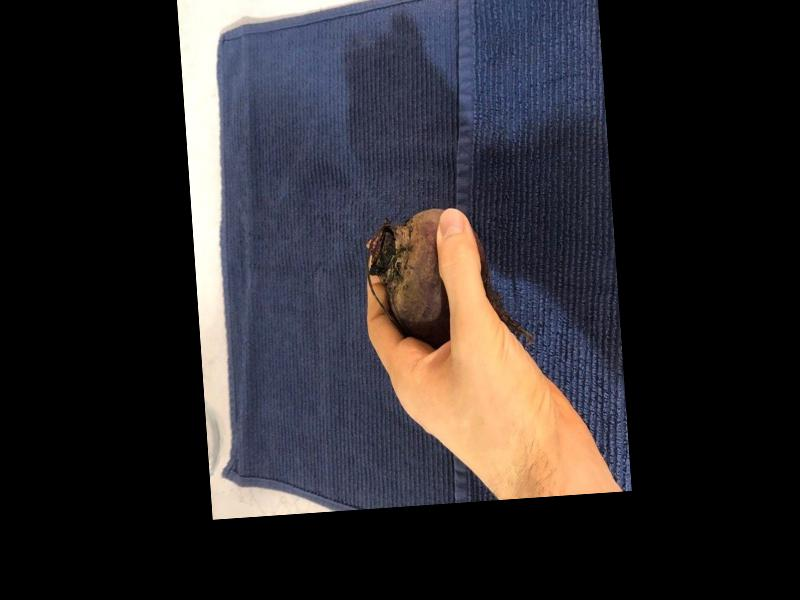Beet: (364, 201, 535, 348)
